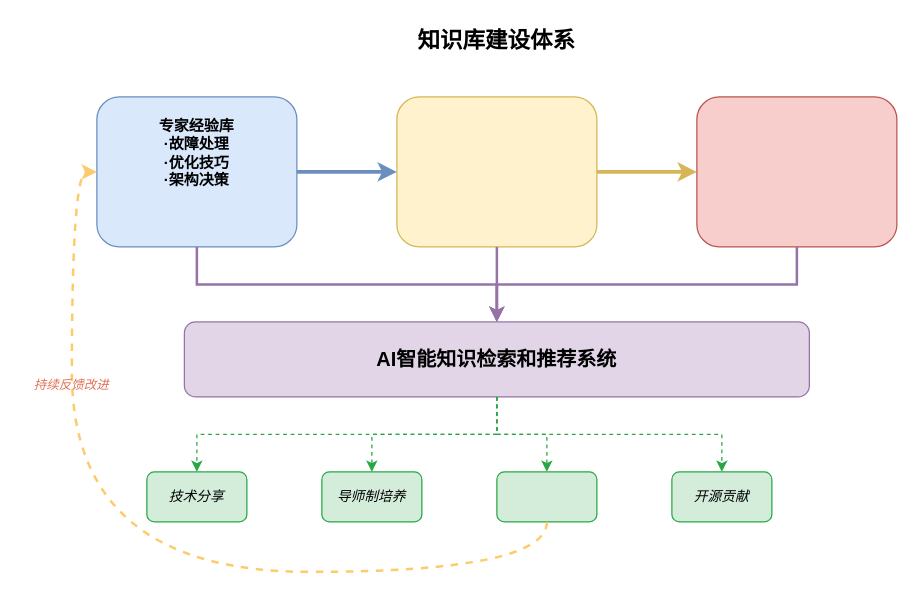
Some shapes in this 919 by 594 pixel diagram are drawn without their labels. The centre of each missing label's shape, as x and y in pixels:
最佳实践库 ·配置模板 ·操作手册 ·安全规范: point 496,171
案例分析库 ·典型故障 ·解决方案 ·经验总结: point 796,171
项目实战: point 546,496
